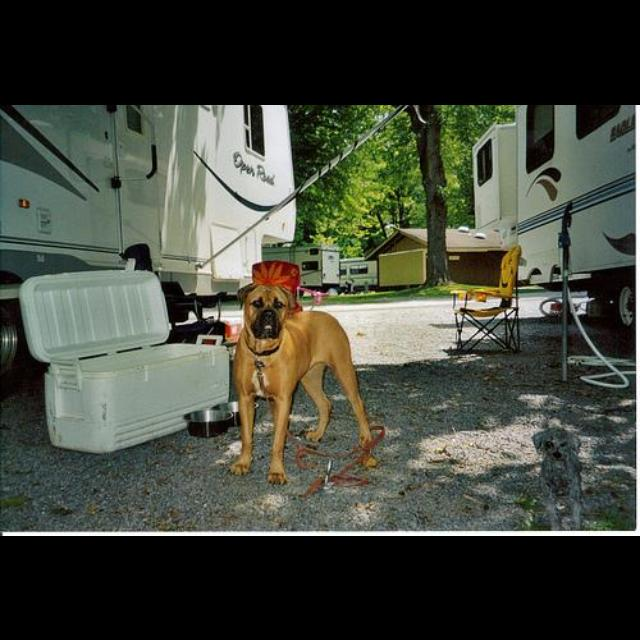bullmastiff: (230, 285, 375, 485)
